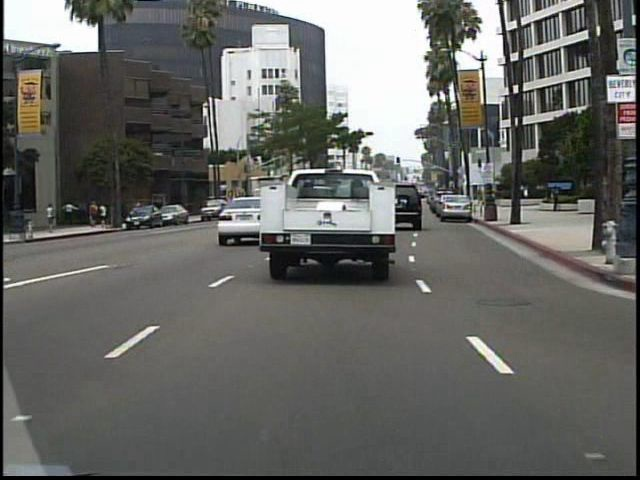person: (48, 201, 60, 236), (550, 183, 562, 214)
